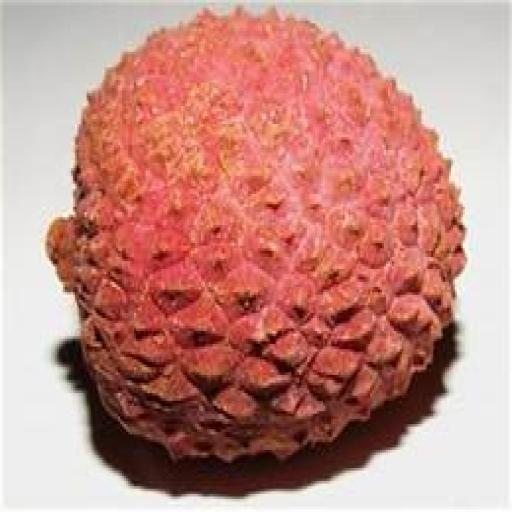lychee: (47, 13, 467, 465)
